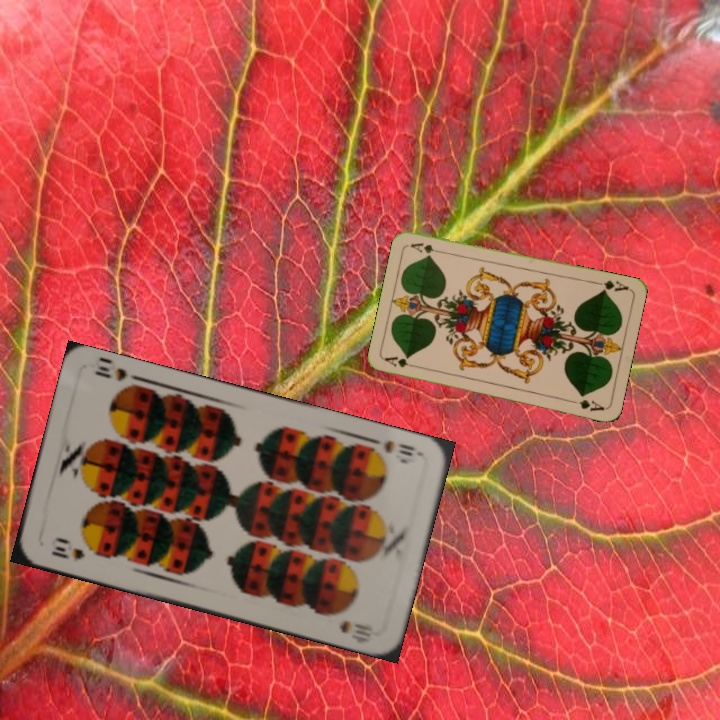GA: (591, 276, 631, 295), (381, 353, 422, 371)
S10: (367, 434, 417, 459), (47, 536, 88, 563)
